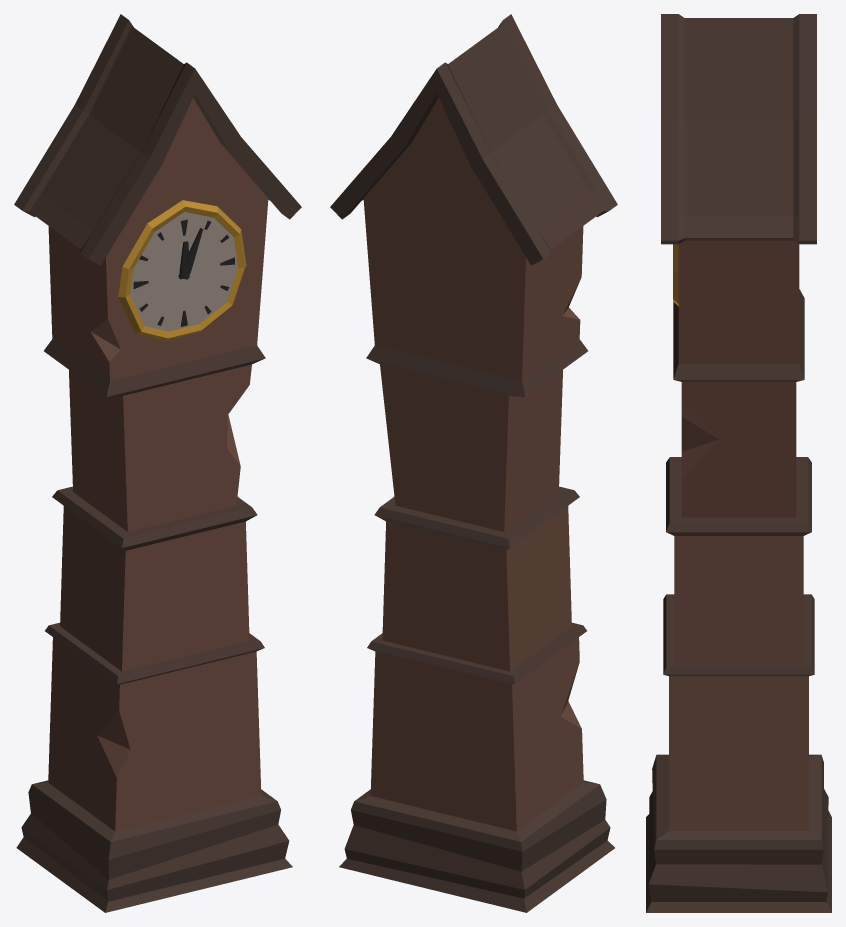
File: LPHorror_GrandFatherClockA.fbx
The picture shows the model from 3 angles, left to right: view 1: azimuth 30°, elevation 25°; view 2: azimuth 150°, elevation 25°; view 3: azimuth 270°, elevation 25°; orthographic projection. The views are drawn at different scales.
Visible parts, largest first — view 1: GrandFatherClockA; view 2: GrandFatherClockA; view 3: GrandFatherClockA.
Boxes of the visible parts, x1,y1,x2,y2 form: GrandFatherClockA: [14, 14, 301, 912]; GrandFatherClockA: [330, 14, 617, 912]; GrandFatherClockA: [646, 14, 831, 912].
Size of the model in its own units: 98.19 by 358 by 70.8.
